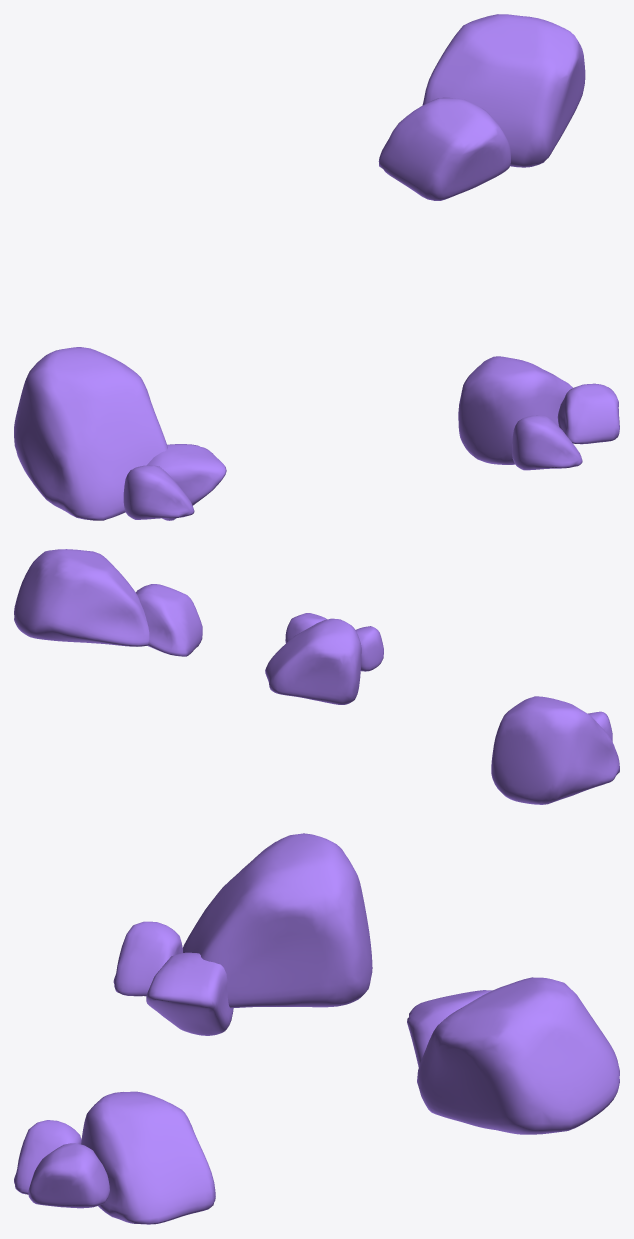
Rendered from StoneGroup2_low.fbx.
The picture shows the model from 3 angles, top to bottom: view 1: azimuth 30°, elevation 25°; view 2: azimuth 150°, elevation 25°; view 3: azimuth 270°, elevation 25°; orthographic projection. The views are drawn at different scales.
Parts seen in each view (by area): view 1: StoneGroup2_low; view 2: StoneGroup2_low; view 3: StoneGroup2_low.
Boxes of the visible parts, x1=… form: StoneGroup2_low: x1=14, y1=14, x2=619, y2=520; StoneGroup2_low: x1=14, y1=549, x2=619, y2=804; StoneGroup2_low: x1=14, y1=833, x2=619, y2=1224.
Size of the model in its own units: 2.04 by 0.8101 by 1.4.
